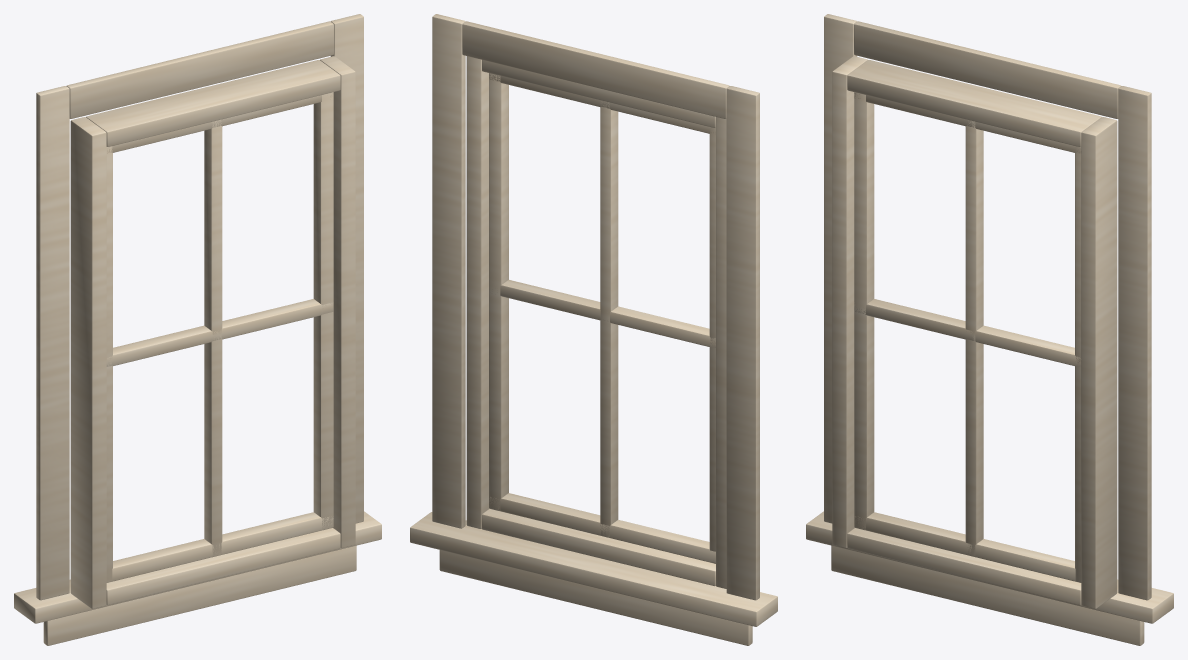
File: SM_Window_Frame_1x3.fbx
3 renders of one model, left to right at view 1: azimuth 30°, elevation 25°; view 2: azimuth 150°, elevation 25°; view 3: azimuth 330°, elevation 25°, orthographic.
Parts seen in each view (by area): view 1: SM_Window_Frame_1x3; view 2: SM_Window_Frame_1x3; view 3: SM_Window_Frame_1x3.
Boxes of the visible parts, x1,y1,x2,y2 form: SM_Window_Frame_1x3: [14, 14, 381, 645]; SM_Window_Frame_1x3: [410, 14, 777, 645]; SM_Window_Frame_1x3: [806, 14, 1173, 645].
Bounding box in the file's own units: 0.92 × 1.4 × 0.17.
Materials: 1 (1 with a texture image).
